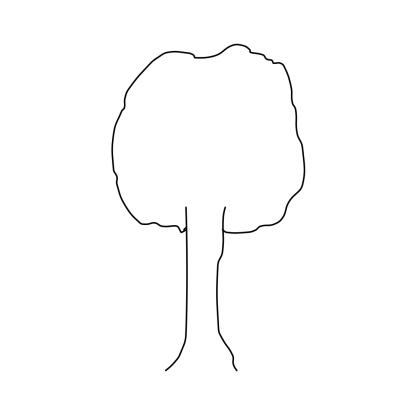crown_mushroom: (113, 43, 306, 233)
trunk_straight: (183, 238, 230, 346)
